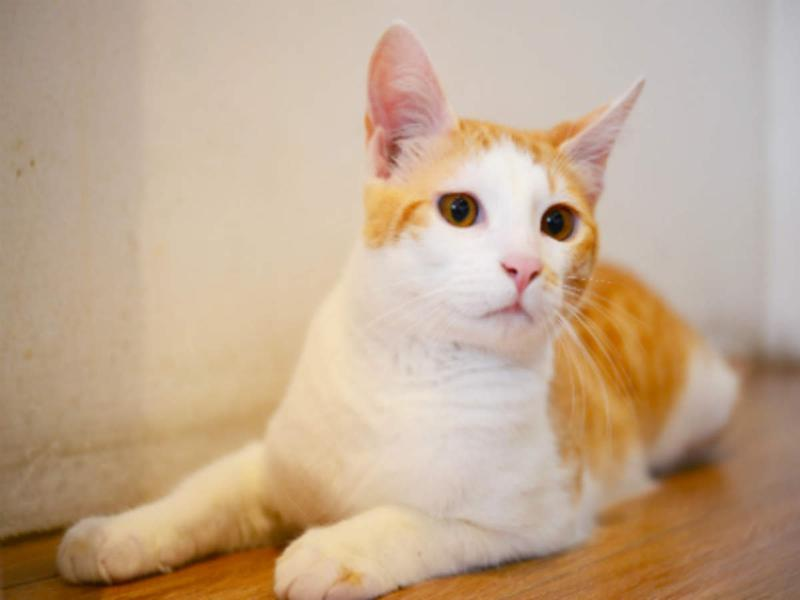cat: (55, 17, 747, 599)
